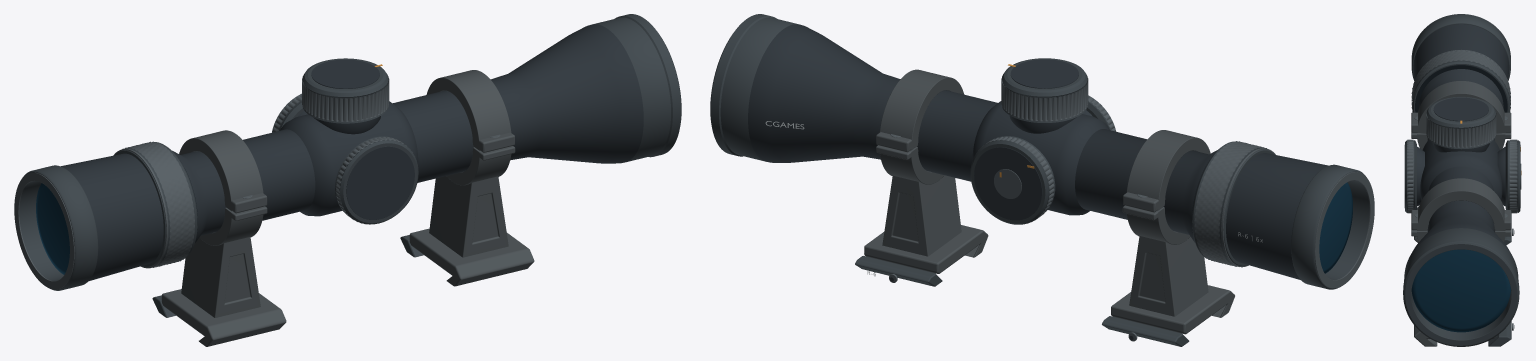
The model's file is R6_6x_Scope_A5_Rail.glb.
The picture shows the model from 3 angles, left to right: view 1: azimuth 30°, elevation 25°; view 2: azimuth 150°, elevation 25°; view 3: azimuth 270°, elevation 25°; orthographic projection. The views are drawn at different scales.
Visible parts, largest first — view 1: 01 MAIN SHELL, 02 FRONT COLLAR, 07 SUPPORT 1, 07 SUPPORT 2, 02d REAR COLLAR, 03 CENTRE BODY, 05 LEFT FACE, 08.1 LOCAL BASE FIXED EDGE, 08.2 LOCAL BASE FIXED EDGE, 13 FOCUS DIAMOND DEPRESSIONS, 06 RING 2 UPPER, 06 RING 1 UPPER (+13 smaller); view 2: 01 MAIN SHELL, 02 FRONT COLLAR, 07 SUPPORT 1, 07 SUPPORT 2, 02d REAR COLLAR, 03 CENTRE BODY, 05 RIGHT FACE, 13 FOCUS DIAMOND DEPRESSIONS, 06 RING 1 UPPER, 06 RING 2 UPPER, 08.2 LOCAL BASE FIXED EDGE, 08.1 LOCAL BASE FIXED EDGE (+16 smaller); view 3: 11 FRONT VISUAL PANE, 01 MAIN SHELL, 02 FRONT COLLAR, 06 RING 1 UPPER, 03 CENTRE BODY, 06 RING 2 UPPER, 04c TOP GRIP VALLEYS, 02d REAR COLLAR, 13 FOCUS DIAMOND DEPRESSIONS, 04d TOP FACE, 04b TOP CAP, 02g FOCUS COLLAR (+17 smaller).
Boxes of the visible parts, x1=… form: 01 MAIN SHELL: x1=61, y1=24, x2=643, y2=280; 02 FRONT COLLAR: x1=592, y1=14, x2=681, y2=162; 07 SUPPORT 1: x1=429, y1=176, x2=508, y2=257; 07 SUPPORT 2: x1=181, y1=237, x2=260, y2=317; 02d REAR COLLAR: x1=19, y1=165, x2=98, y2=290; 03 CENTRE BODY: x1=280, y1=101, x2=418, y2=216; 05 LEFT FACE: x1=346, y1=146, x2=414, y2=219; 08.1 LOCAL BASE FIXED EDGE: x1=409, y1=228, x2=534, y2=286; 08.2 LOCAL BASE FIXED EDGE: x1=161, y1=289, x2=286, y2=346; 13 FOCUS DIAMOND DEPRESSIONS: x1=122, y1=141, x2=194, y2=268; 06 RING 2 UPPER: x1=179, y1=130, x2=263, y2=211; 06 RING 1 UPPER: x1=426, y1=70, x2=511, y2=150; 01 MAIN SHELL: x1=748, y1=24, x2=1328, y2=279; 02 FRONT COLLAR: x1=710, y1=14, x2=797, y2=161; 07 SUPPORT 1: x1=882, y1=175, x2=961, y2=256; 07 SUPPORT 2: x1=1129, y1=236, x2=1208, y2=316; 02d REAR COLLAR: x1=1291, y1=164, x2=1369, y2=289; 03 CENTRE BODY: x1=972, y1=101, x2=1109, y2=215; 05 RIGHT FACE: x1=974, y1=147, x2=1042, y2=220; 13 FOCUS DIAMOND DEPRESSIONS: x1=1194, y1=141, x2=1266, y2=266; 06 RING 1 UPPER: x1=879, y1=69, x2=964, y2=150; 06 RING 2 UPPER: x1=1126, y1=130, x2=1210, y2=210; 08.2 LOCAL BASE FIXED EDGE: x1=1111, y1=285, x2=1234, y2=334; 08.1 LOCAL BASE FIXED EDGE: x1=864, y1=225, x2=988, y2=273; 11 FRONT VISUAL PANE: x1=1411, y1=249, x2=1510, y2=332; 01 MAIN SHELL: x1=1405, y1=24, x2=1517, y2=268; 02 FRONT COLLAR: x1=1403, y1=228, x2=1519, y2=346; 06 RING 1 UPPER: x1=1417, y1=178, x2=1505, y2=230; 03 CENTRE BODY: x1=1420, y1=139, x2=1502, y2=200; 06 RING 2 UPPER: x1=1417, y1=81, x2=1505, y2=133; 04c TOP GRIP VALLEYS: x1=1426, y1=113, x2=1496, y2=147; 02d REAR COLLAR: x1=1411, y1=14, x2=1510, y2=80; 13 FOCUS DIAMOND DEPRESSIONS: x1=1411, y1=50, x2=1510, y2=112; 04d TOP FACE: x1=1433, y1=97, x2=1488, y2=121; 04b TOP CAP: x1=1426, y1=96, x2=1495, y2=149; 02g FOCUS COLLAR: x1=1412, y1=50, x2=1510, y2=112.
Size of the model in its own units: 0.303 by 0.1044 by 0.0642.
